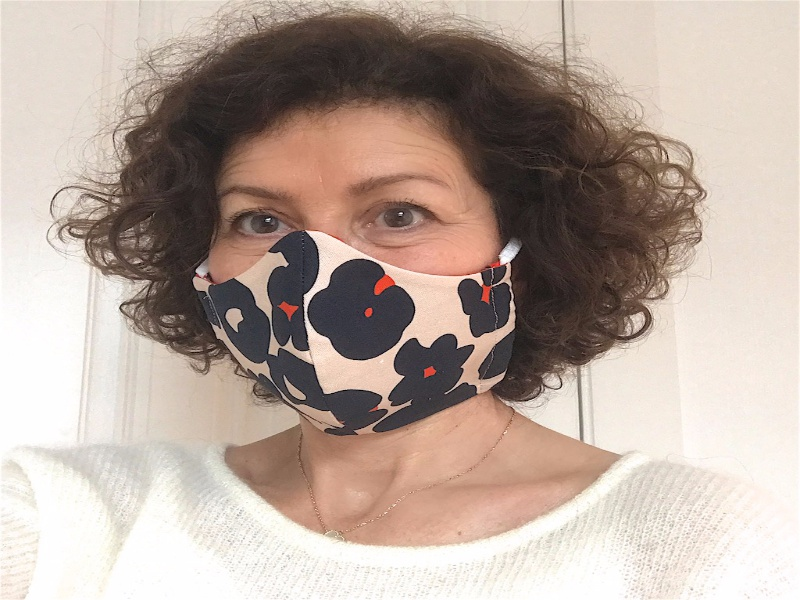ManaoArotava: (118, 24, 604, 454)
